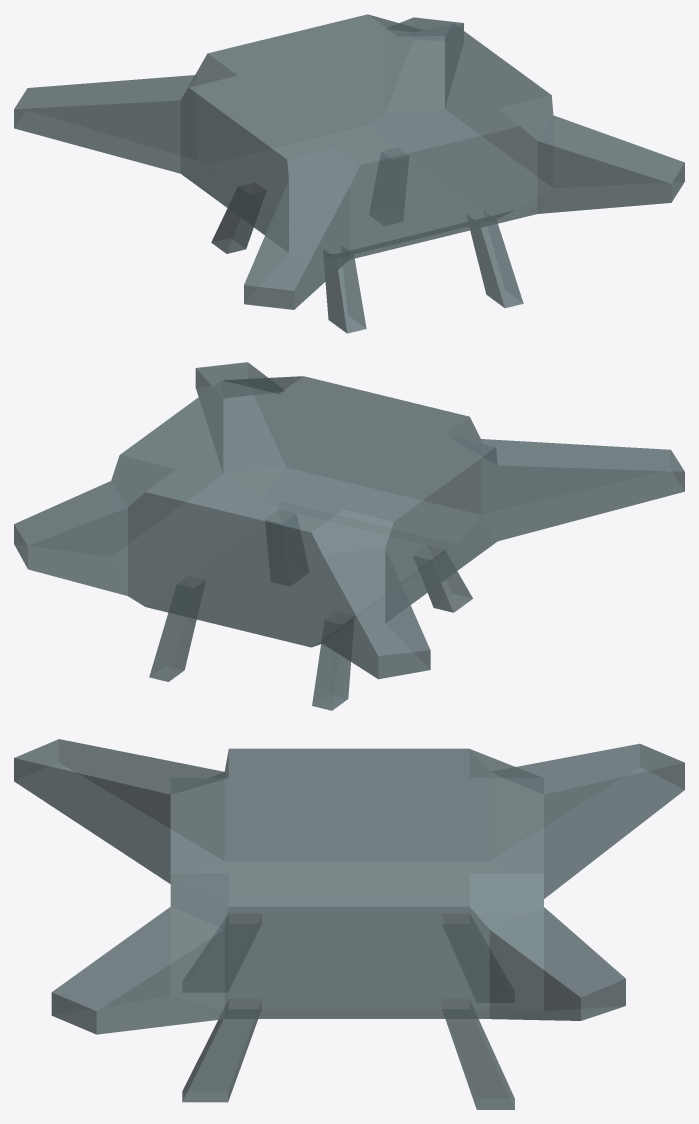
The model's file is dron.fbx.
3 views of the same model, one above another, from view 1: azimuth 30°, elevation 25°; view 2: azimuth 150°, elevation 25°; view 3: azimuth 270°, elevation 25° (orthographic). The views are drawn at different scales.
Visible parts, largest first — view 1: Cube; view 2: Cube; view 3: Cube.
Boxes of the visible parts, x1,y1,x2,y2 form: Cube: (14, 14, 684, 333); Cube: (14, 362, 684, 710); Cube: (14, 739, 684, 1109).
Bounding box in the file's own units: 345 × 137 × 359.
